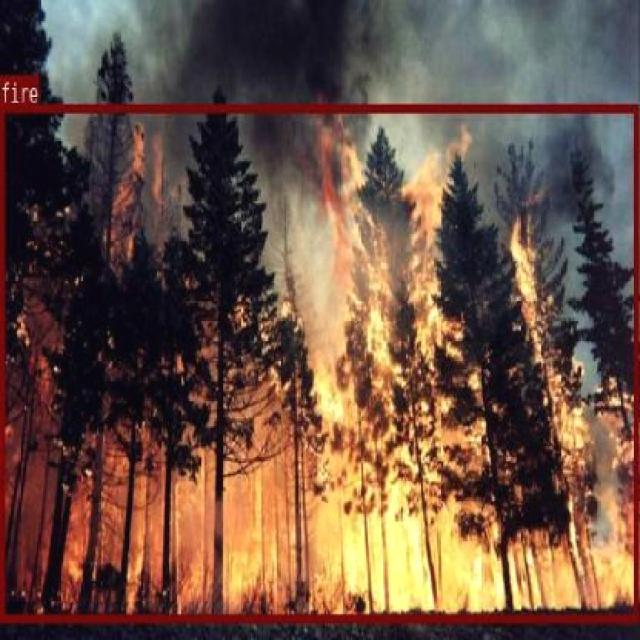fire: (0, 101, 638, 620)
